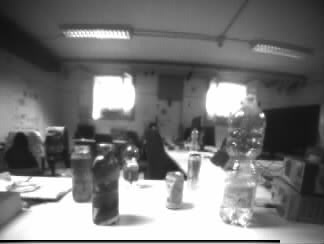Bottle: (225, 96, 261, 226), (94, 143, 119, 225), (123, 141, 139, 188), (190, 127, 198, 150)
Tin can: (71, 152, 92, 201), (166, 171, 183, 208), (186, 153, 200, 187)
